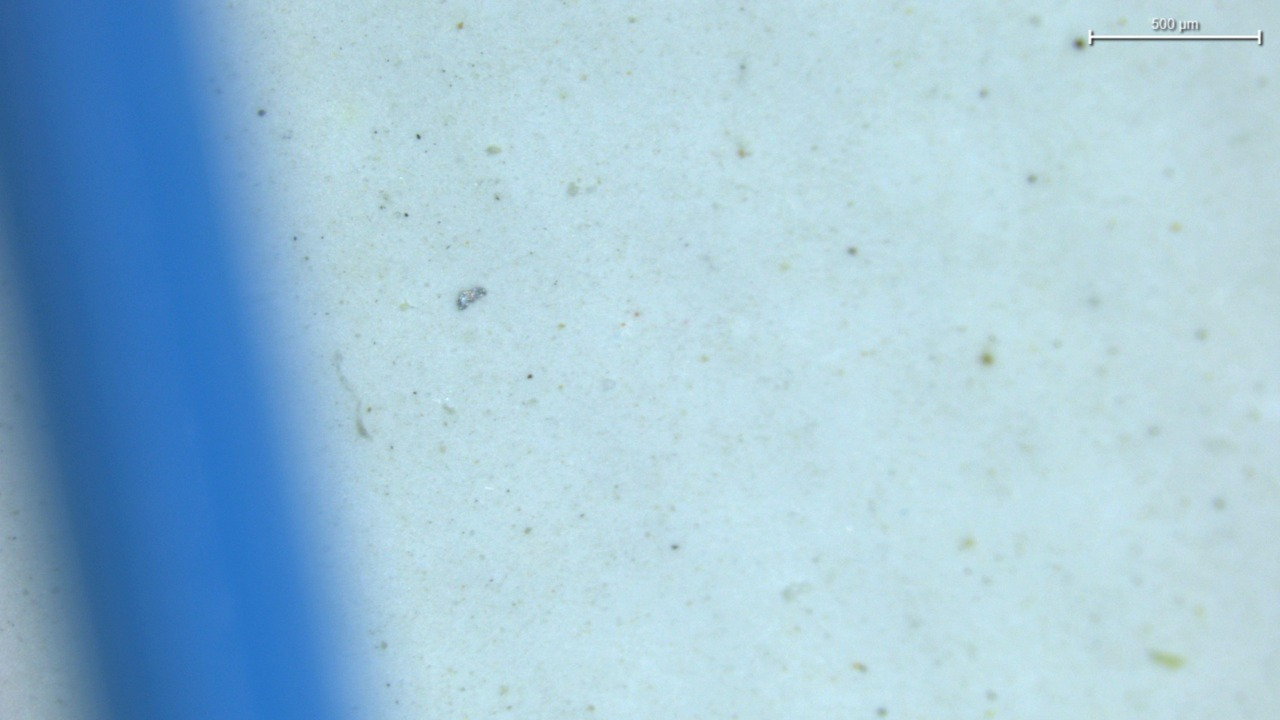microplastic_fragment: (456, 286, 486, 310)
